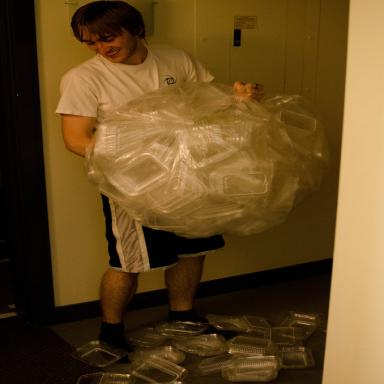plasticbag: (87, 80, 329, 239)
